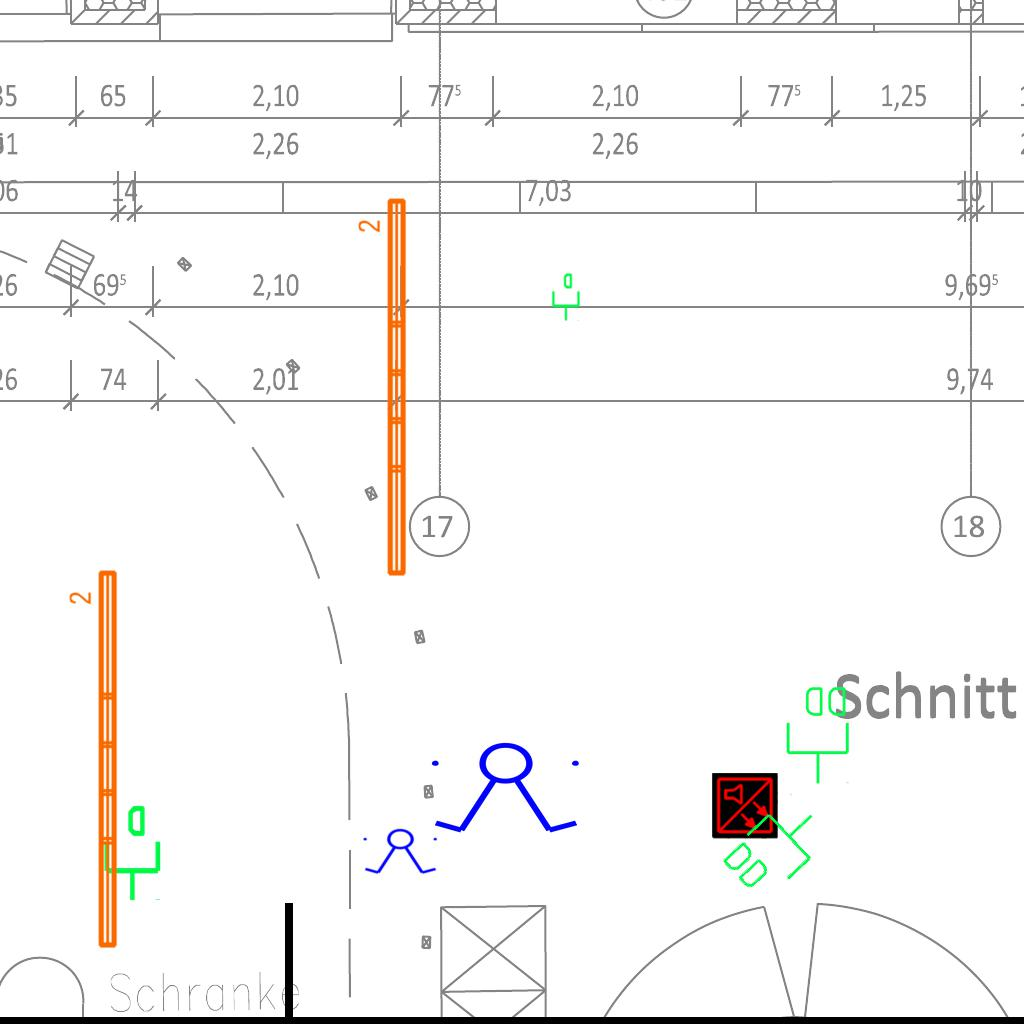Ambulanz_Pendelleuchte_LED: (356, 194, 412, 581), (67, 566, 123, 953)
Datenanschluss_einfach: (96, 803, 165, 903), (548, 272, 582, 322)
Datenanschluss_zweifach: (714, 788, 837, 909), (784, 683, 853, 786)
OKW_Multisensormelder_(Kombination_optischer_Rauch-Kahlenmonoxid_Waerme-Melder): (712, 773, 778, 839)
Serienschalter: (423, 741, 591, 837), (359, 828, 443, 876)
